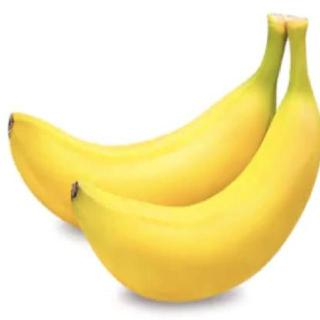banana: (69, 92, 319, 306), (7, 81, 280, 235)
